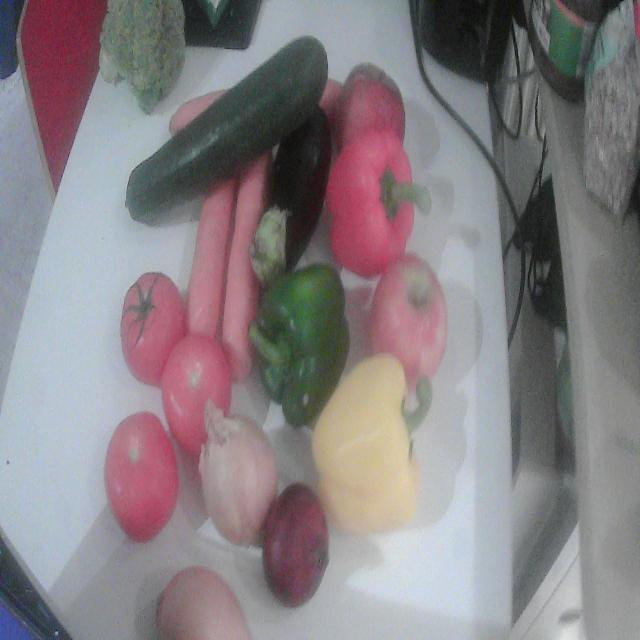Apple: (369, 254, 448, 393), (333, 66, 404, 154)
Bell Pepper: (312, 356, 433, 536), (250, 264, 350, 427), (326, 129, 430, 277)
Broccoli: (100, 0, 185, 113)
Carrot: (222, 157, 266, 380), (186, 179, 237, 333)
Courgette: (126, 36, 327, 224)
Eggplant: (251, 108, 332, 284)
Onion: (198, 402, 278, 547), (263, 484, 328, 606), (156, 567, 251, 639)
Tomato: (105, 413, 180, 541), (161, 334, 231, 455), (121, 273, 185, 386)
